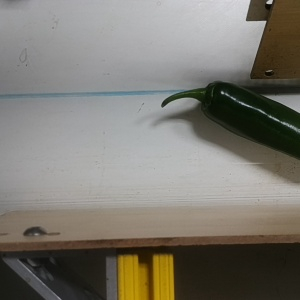Cut Point: (193, 79, 227, 117)
